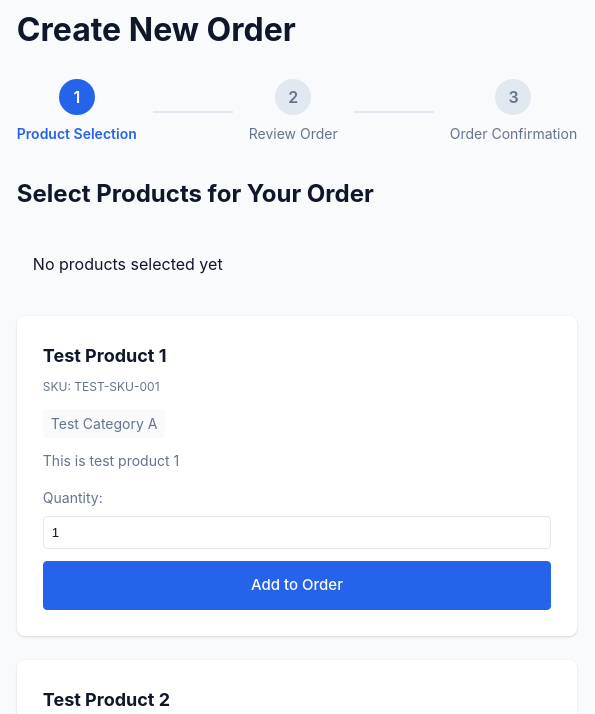
Scenario: OrderCreate › should allow adding products to the order
This screenshot has width=595, height=714.
Expected: the heading "Select Products for Your Order" is shown, [17,179,374,208]
Note: Click the "Add to Order" button for the first product
What coordinates should you click on to do the following:
click the button "Add to Order"
I would click on:
 (297, 585)
Its box is [43,561,551,610].
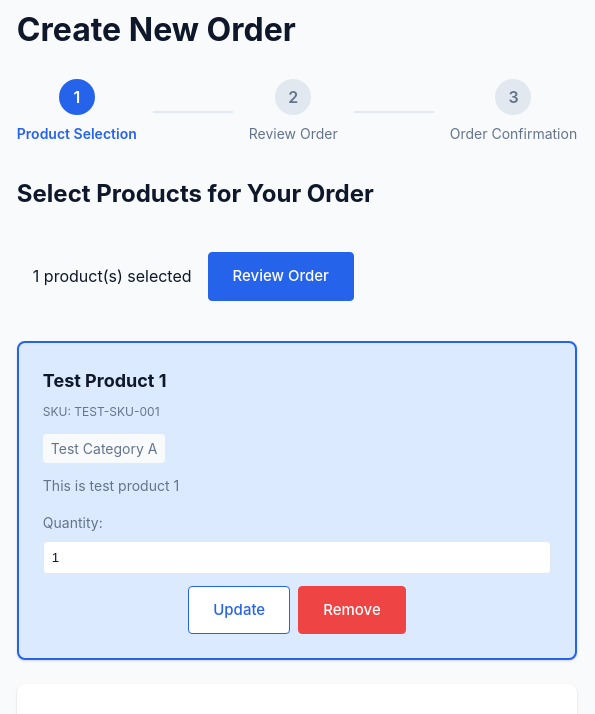
Now the text "1 product(s) selected" is shown, box [33,264,192,288]
Now the button "Review Order" is shown, box [208,252,354,301]
